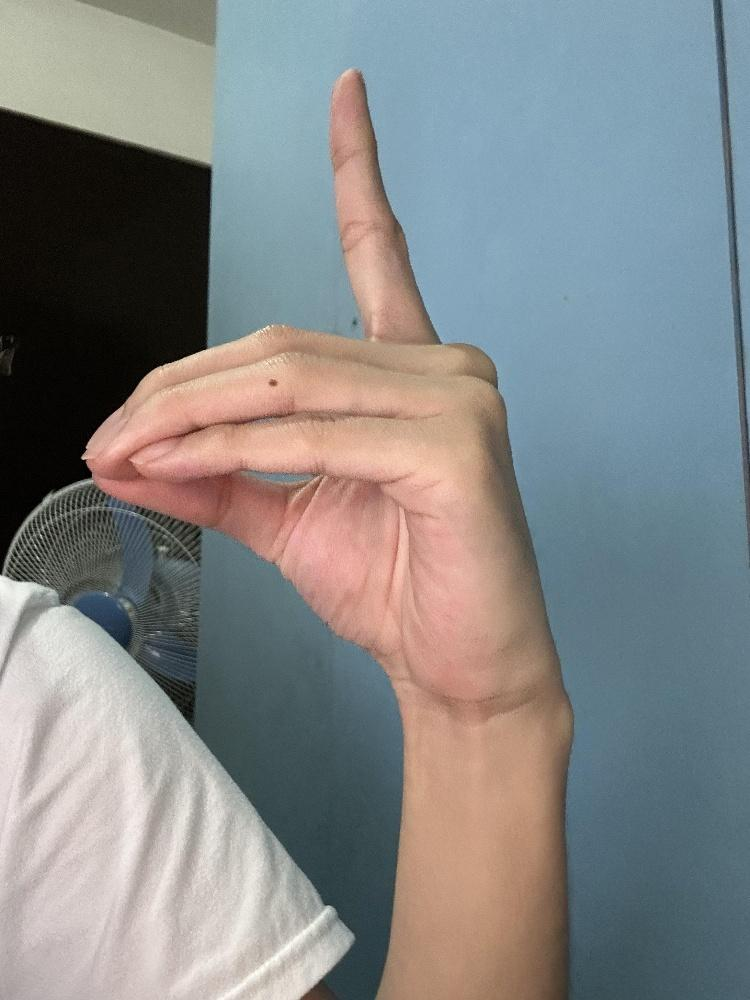d: (78, 60, 564, 721)
